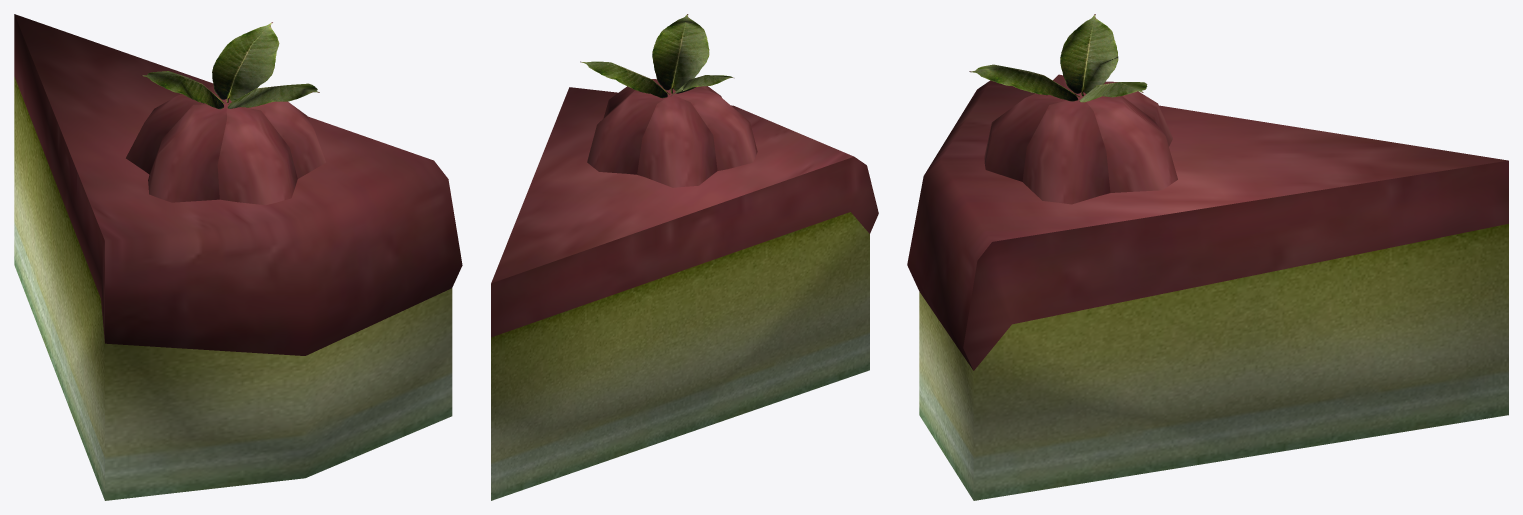
File: ITFO_EXOTICDESSERT.glb
The picture shows the model from 3 angles, left to right: view 1: azimuth 30°, elevation 25°; view 2: azimuth 150°, elevation 25°; view 3: azimuth 270°, elevation 25°; orthographic projection. The views are drawn at different scales.
Visible parts, largest first — view 1: Mesh; view 2: Mesh; view 3: Mesh.
Part boxes in pixels (x1,y1,x2,y2): Mesh: (14,14,462,500); Mesh: (491,14,878,500); Mesh: (907,14,1508,500).
Size of the model in its own units: 0.1729 by 0.1655 by 0.2487.
2 materials, 2 textured.
